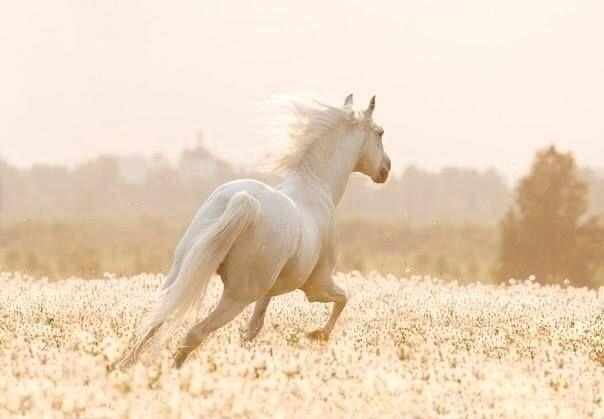horse: (113, 92, 391, 370)
